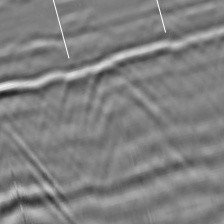Utility: (85, 61, 158, 147)
